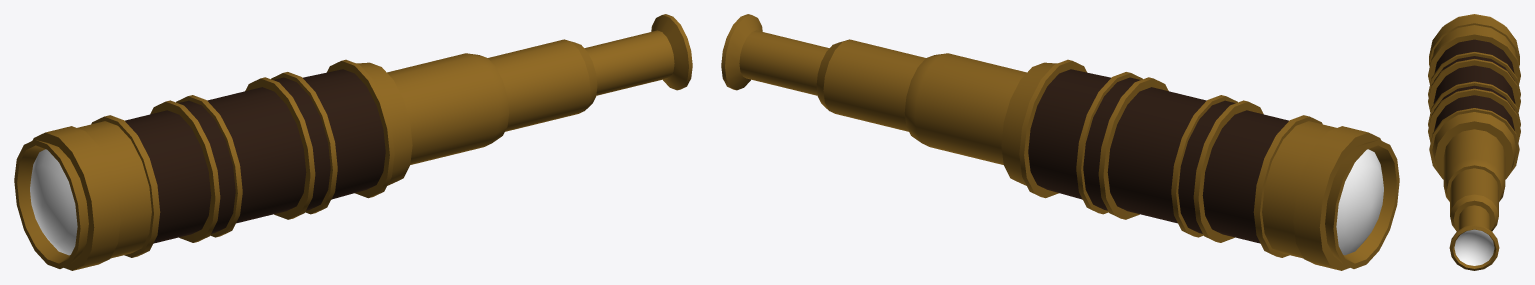
Rendered from LP_P_Spyglass.fbx.
3 views of the same model, side by side, from view 1: azimuth 30°, elevation 25°; view 2: azimuth 150°, elevation 25°; view 3: azimuth 270°, elevation 25° (orthographic). The views are drawn at different scales.
Parts seen in each view (by area): view 1: Spyglass; view 2: Spyglass; view 3: Spyglass.
Part boxes in pixels (x1,y1,x2,y2): Spyglass: (14, 14, 692, 270); Spyglass: (721, 14, 1399, 270); Spyglass: (1428, 14, 1520, 270).
Size of the model in its own units: 31.44 by 6.22 by 6.22.
